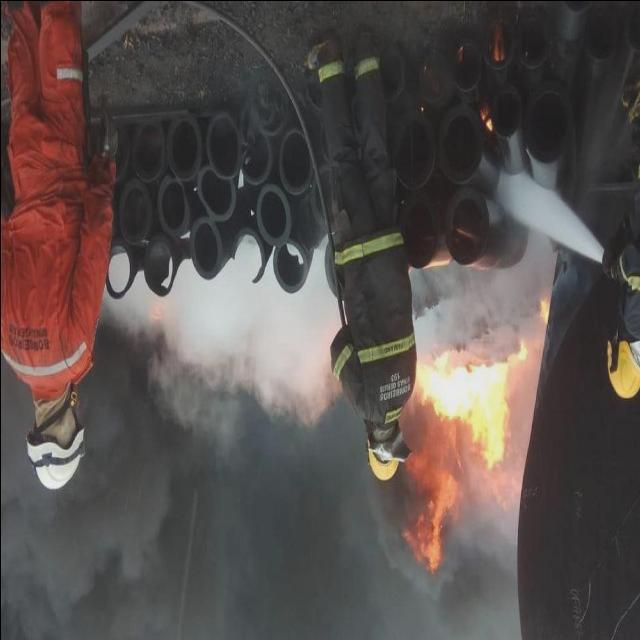Fire: (398, 338, 530, 566), (536, 299, 550, 325)
